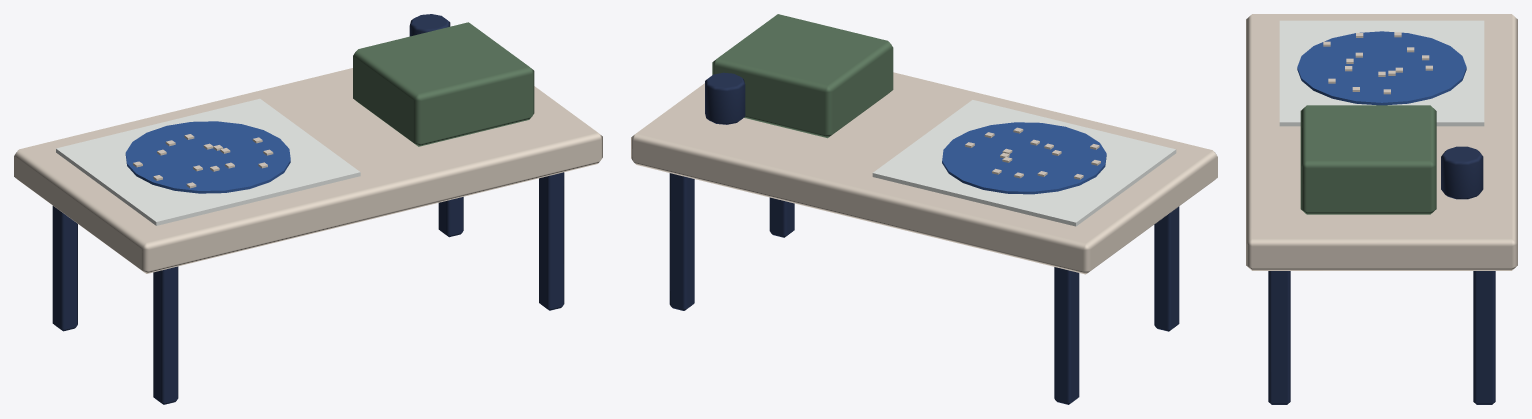
File: star_table.glb
3 views of the same model, side by side, from view 1: azimuth 30°, elevation 25°; view 2: azimuth 150°, elevation 25°; view 3: azimuth 270°, elevation 25° (orthographic). The views are drawn at different scales.
Parts seen in each view (by area): view 1: star_table; view 2: star_table; view 3: star_table.
Boxes of the visible parts, <box> form: star_table: <box>14,14,602,404</box>; star_table: <box>631,14,1217,404</box>; star_table: <box>1246,14,1517,404</box>.
Bounding box in the file's own units: 2.44 × 1.17 × 1.22.
